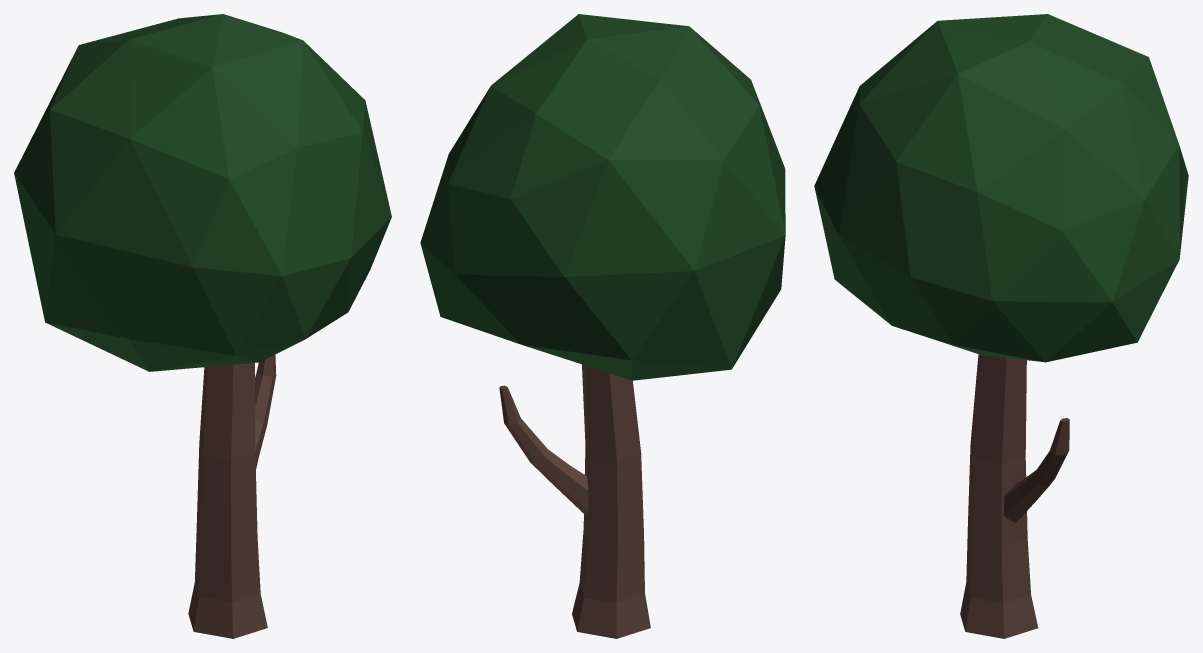
The model's file is ForestTree(1).fbx.
3 renders of one model, left to right at view 1: azimuth 30°, elevation 25°; view 2: azimuth 150°, elevation 25°; view 3: azimuth 270°, elevation 25°, orthographic.
Parts seen in each view (by area): view 1: ForestTree(1); view 2: ForestTree(1); view 3: ForestTree(1).
Boxes of the visible parts, box(x1,y1,x2,y2) form: ForestTree(1): box(14, 14, 391, 638); ForestTree(1): box(420, 14, 785, 638); ForestTree(1): box(814, 14, 1188, 638).
Size of the model in its own units: 2.86 by 5.09 by 2.96.
